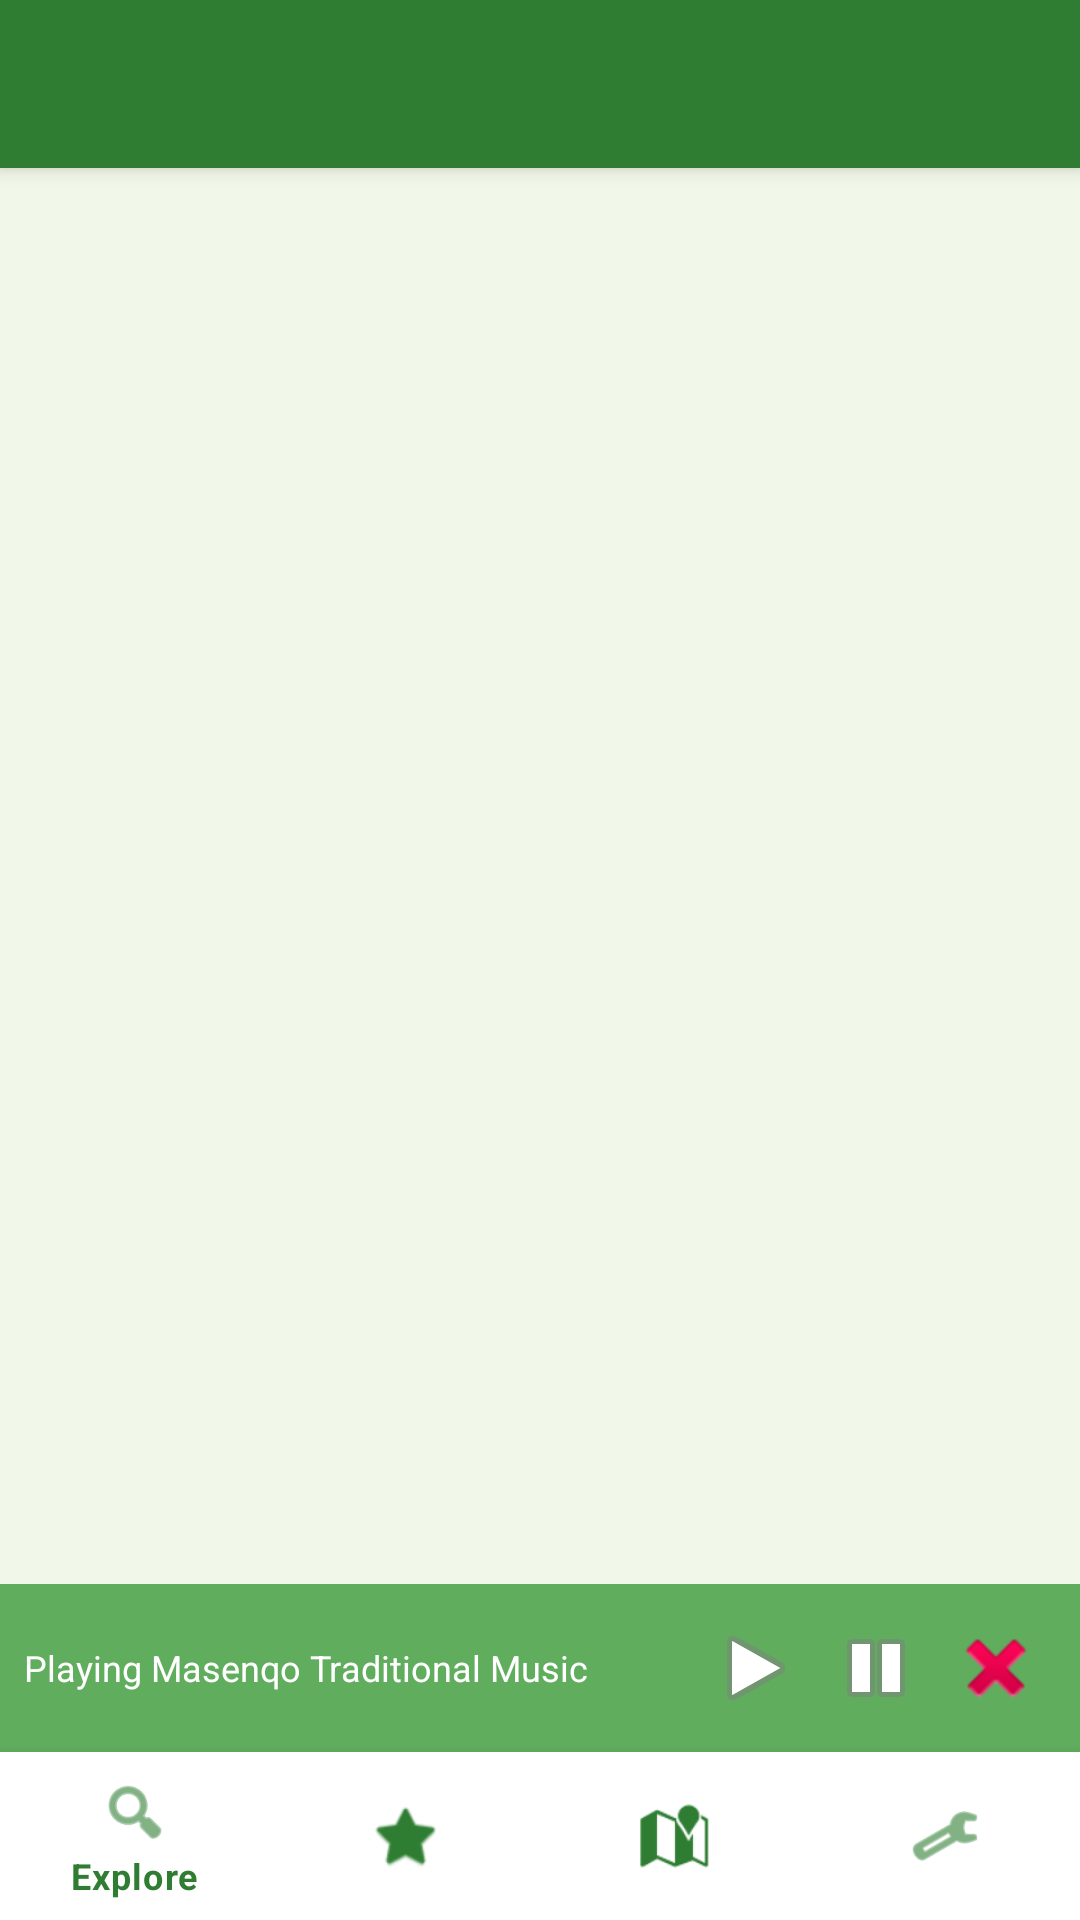

Where to tap for icons on this 1080px x 1920px app screen, as point (x, y):
delete: point (996, 1668)
pause: point (876, 1668)
